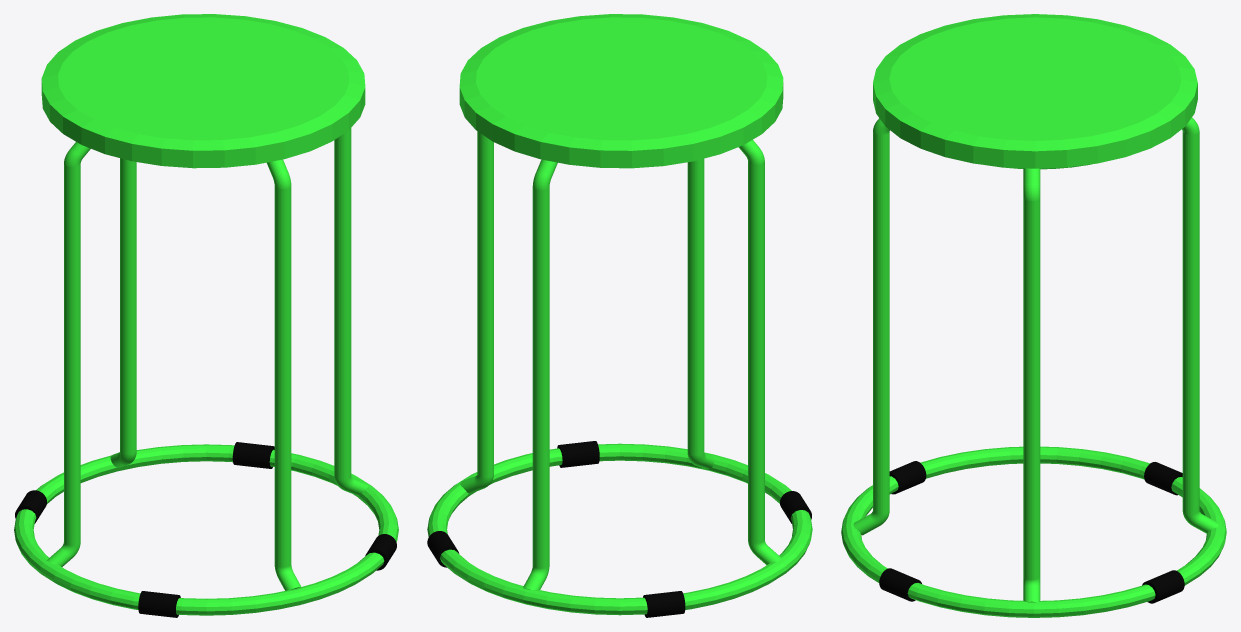
Rendered from Stool.fbx.
3 renders of one model, left to right at view 1: azimuth 30°, elevation 25°; view 2: azimuth 150°, elevation 25°; view 3: azimuth 270°, elevation 25°, orthographic.
Visible parts, largest first — view 1: Cylinder.005, Cylinder.011, Cylinder.008, Cylinder.009, Cylinder.010, Cylinder.006, Cylinder.004, Cylinder, Cylinder.003, Cylinder.002; view 2: Cylinder.005, Cylinder.011, Cylinder.006, Cylinder.009, Cylinder.010, Cylinder.008, Cylinder.002, Cylinder.003, Cylinder, Cylinder.004; view 3: Cylinder.005, Cylinder.011, Cylinder.010, Cylinder.006, Cylinder.008, Cylinder, Cylinder.003, Cylinder.004, Cylinder.002.
Boxes of the visible parts, box(x1,y1,x2,y2) form: Cylinder.005: box(41, 14, 365, 168); Cylinder.011: box(14, 444, 398, 615); Cylinder.008: box(267, 159, 301, 590); Cylinder.009: box(47, 142, 90, 566); Cylinder.010: box(334, 128, 368, 495); Cylinder.006: box(110, 158, 136, 467); Cylinder.004: box(138, 591, 180, 617); Cylinder: box(232, 442, 274, 468); Cylinder.003: box(365, 534, 396, 570); Cylinder.002: box(15, 490, 46, 523); Cylinder.005: box(459, 14, 783, 168); Cylinder.011: box(427, 443, 812, 615); Cylinder.006: box(523, 159, 557, 590); Cylinder.009: box(738, 140, 781, 565); Cylinder.010: box(460, 131, 493, 493); Cylinder.008: box(687, 158, 714, 468); Cylinder.002: box(643, 591, 685, 617); Cylinder.003: box(557, 441, 599, 467); Cylinder: box(427, 531, 459, 567); Cylinder.004: box(780, 491, 811, 523); Cylinder.005: box(873, 14, 1197, 168); Cylinder.011: box(841, 446, 1226, 617); Cylinder.010: box(1023, 168, 1040, 602); Cylinder.006: box(1182, 117, 1218, 533); Cylinder.008: box(853, 118, 889, 535); Cylinder: box(1142, 570, 1184, 603); Cylinder.003: box(879, 568, 921, 601); Cylinder.004: box(889, 461, 926, 494); Cylinder.002: box(1144, 462, 1182, 495).
Bounding box in the file's own units: 45.73 × 60.5 × 45.73.
